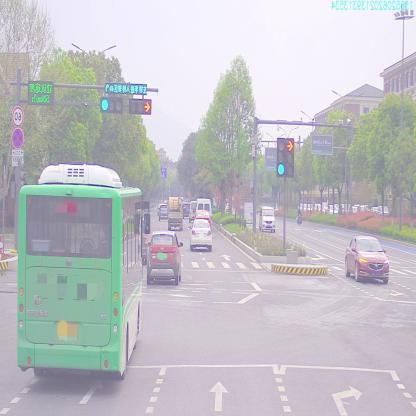traffic-light: (103, 83, 148, 91), (100, 98, 121, 114), (130, 101, 151, 116)
